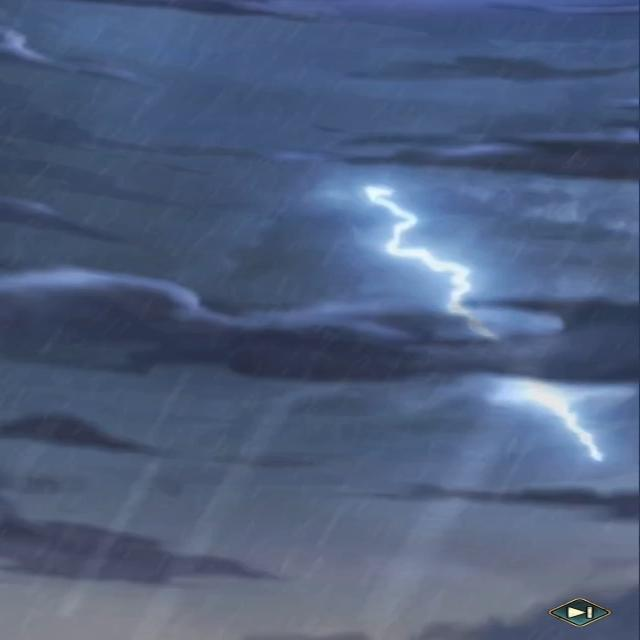system-skip: (544, 597, 610, 627)
